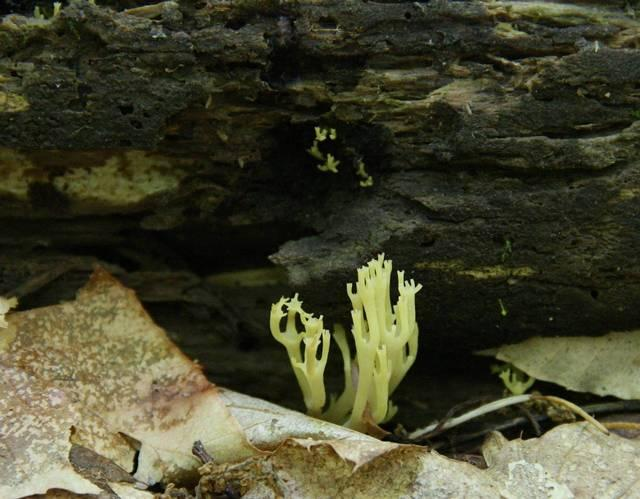Edible Mushroom: (268, 251, 423, 436)
